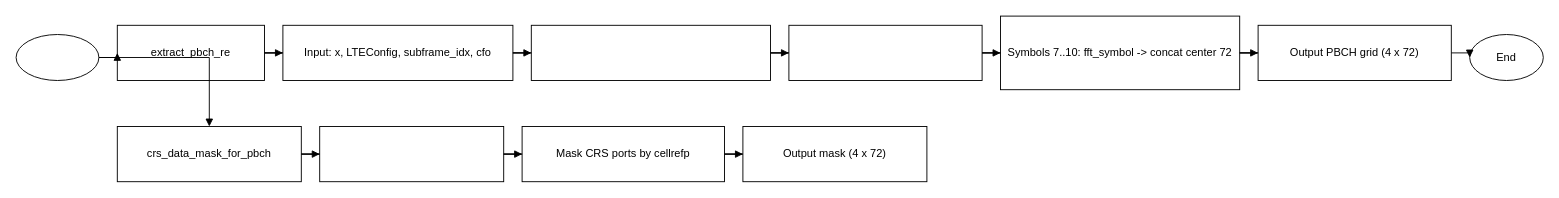
This 1559x198 diagram has some shape labels left out. The centre of each missing label's shape, as x and y in pixels:
"_center_band_indices (72 SC)" goes at (x=885, y=52).
"Start" goes at (x=57, y=57).
"symbol_starts_for_subframe + cp_lengths_normal" goes at (x=650, y=52).
"v_shift = ncellid % 6" goes at (x=411, y=154).
